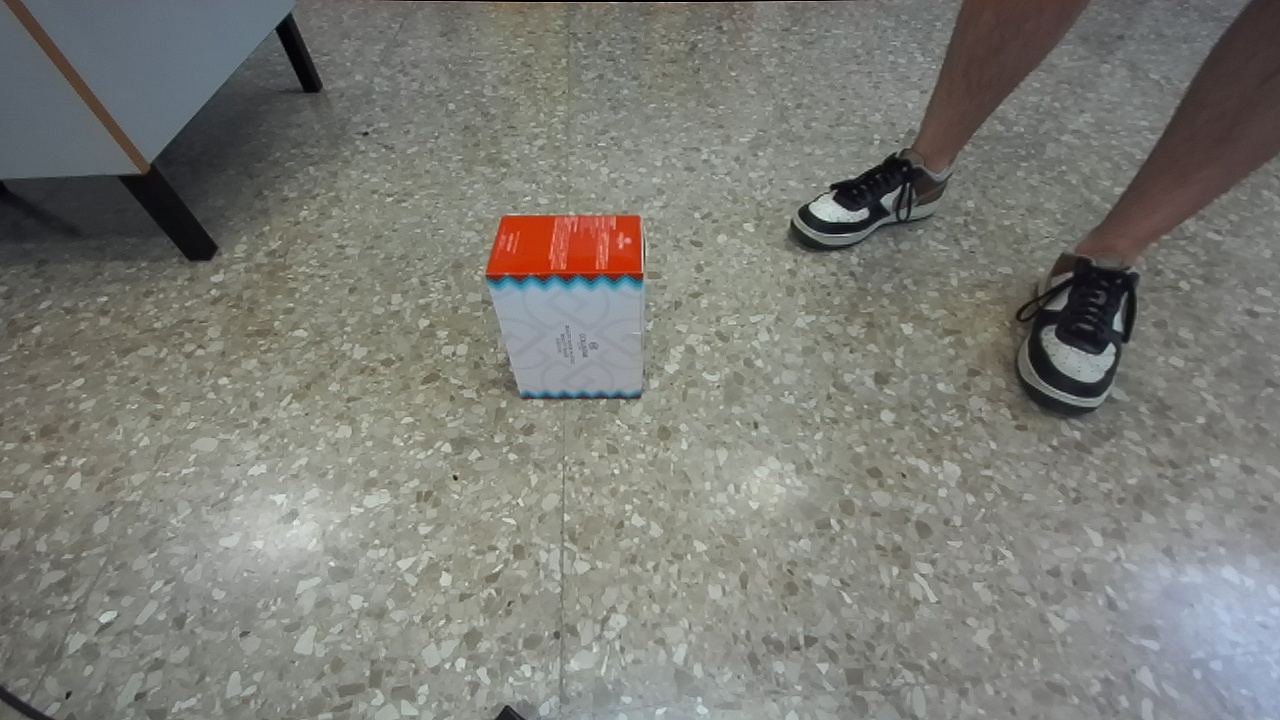caja_busbar: (486, 216, 645, 397)
